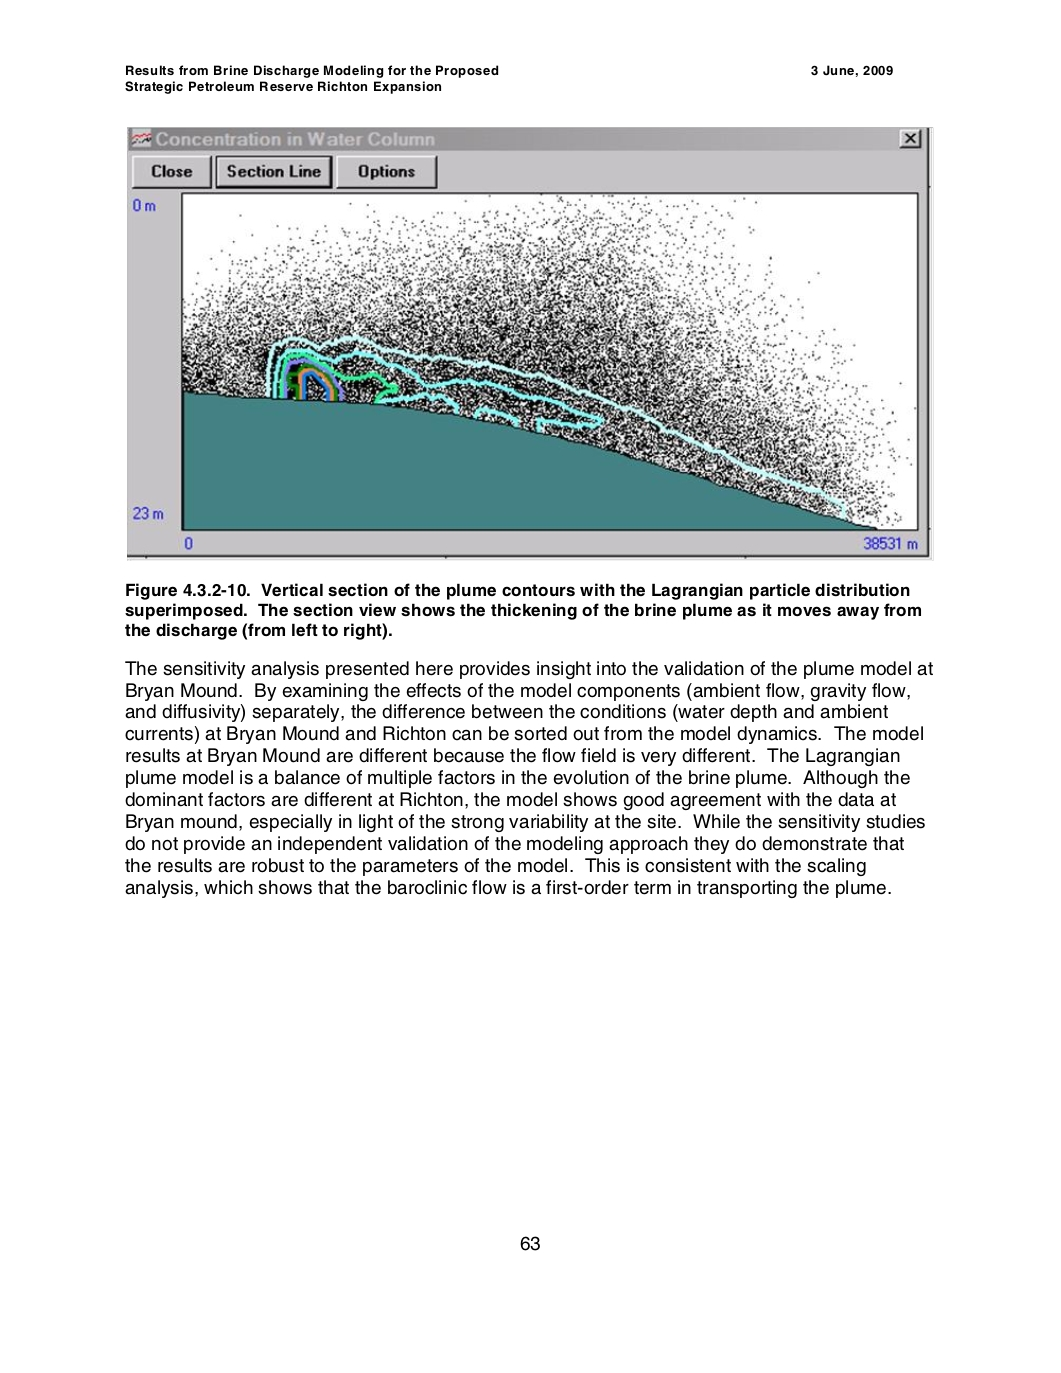figure: (127, 126, 933, 561)
